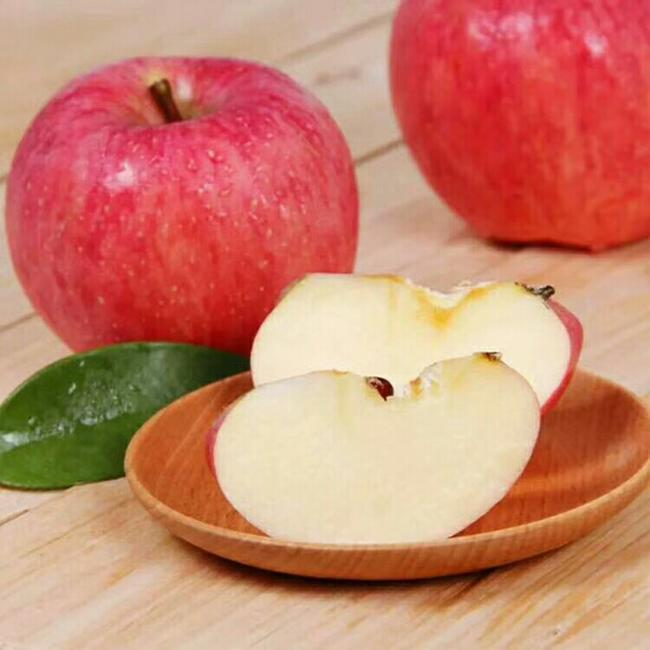apple: (6, 56, 359, 373), (394, 2, 650, 257)
